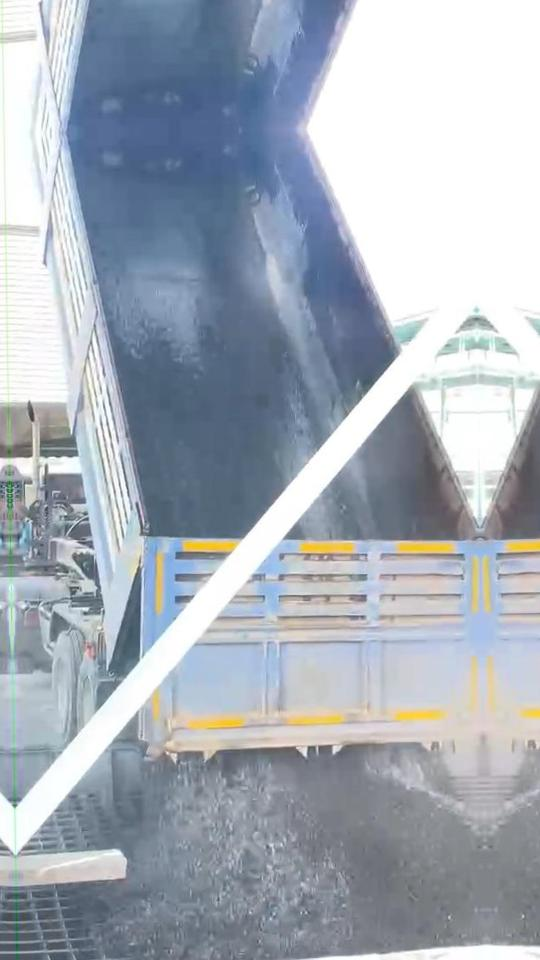gravel: (102, 750, 487, 960), (105, 207, 332, 536)
